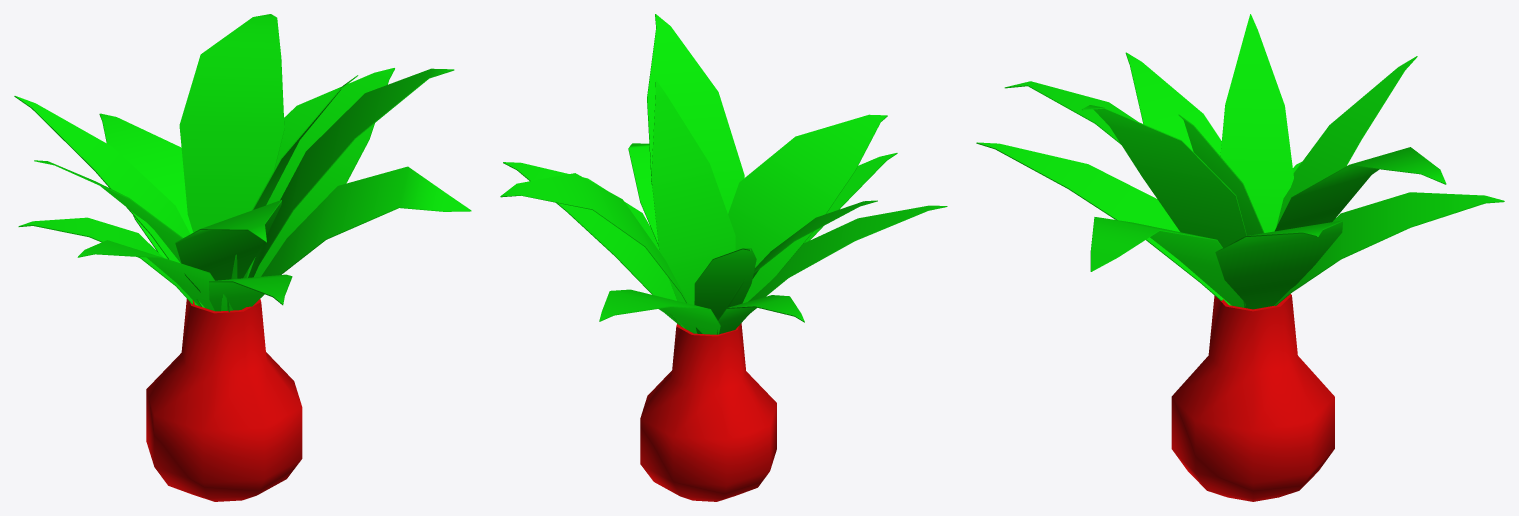
Rendered from SM_flower.fbx.
3 renders of one model, left to right at view 1: azimuth 30°, elevation 25°; view 2: azimuth 150°, elevation 25°; view 3: azimuth 270°, elevation 25°, orthographic. The views are drawn at different scales.
Parts seen in each view (by area): view 1: pSphere3; view 2: pSphere3; view 3: pSphere3.
Part boxes in pixels (x1,y1,x2,y2): pSphere3: [14, 14, 471, 501]; pSphere3: [500, 14, 947, 501]; pSphere3: [976, 14, 1504, 501].
Size of the model in its own units: 98.1 by 101 by 108.
